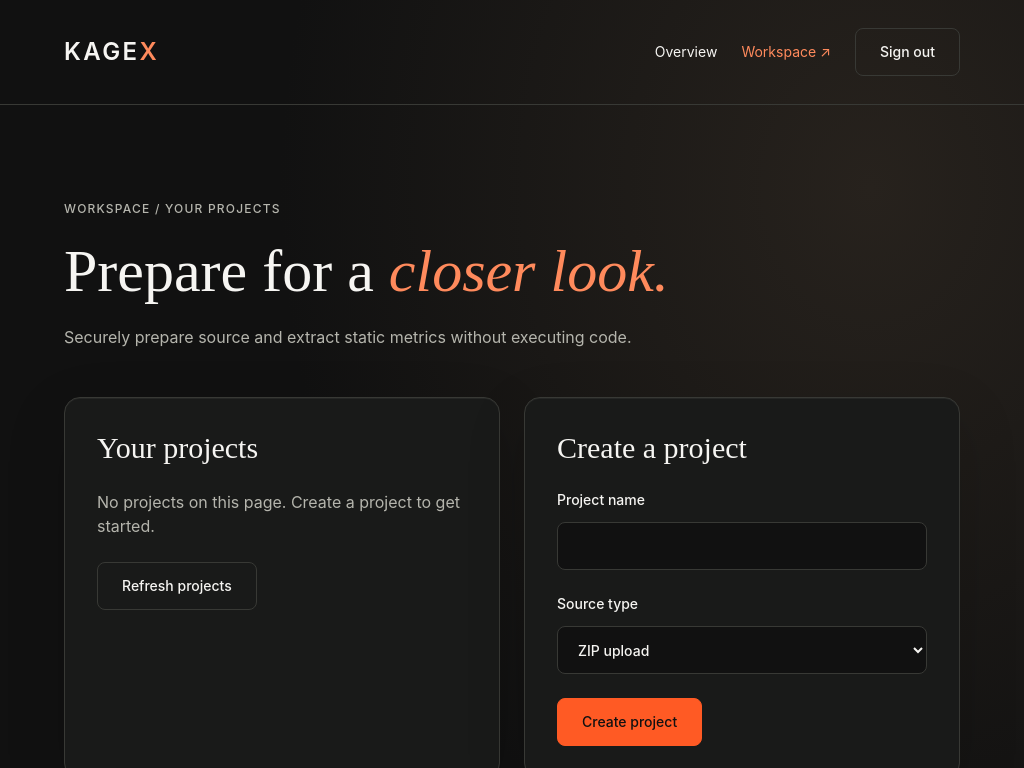
Test case: authentication and project flows › creates a project and displays its actual source state
Expected: the text "No projects on this page. Create a project to get started." is shown, [97,490,467,538]
Type "My project" into the field labelled "Project name" at (742, 546), box [557,522,927,570]
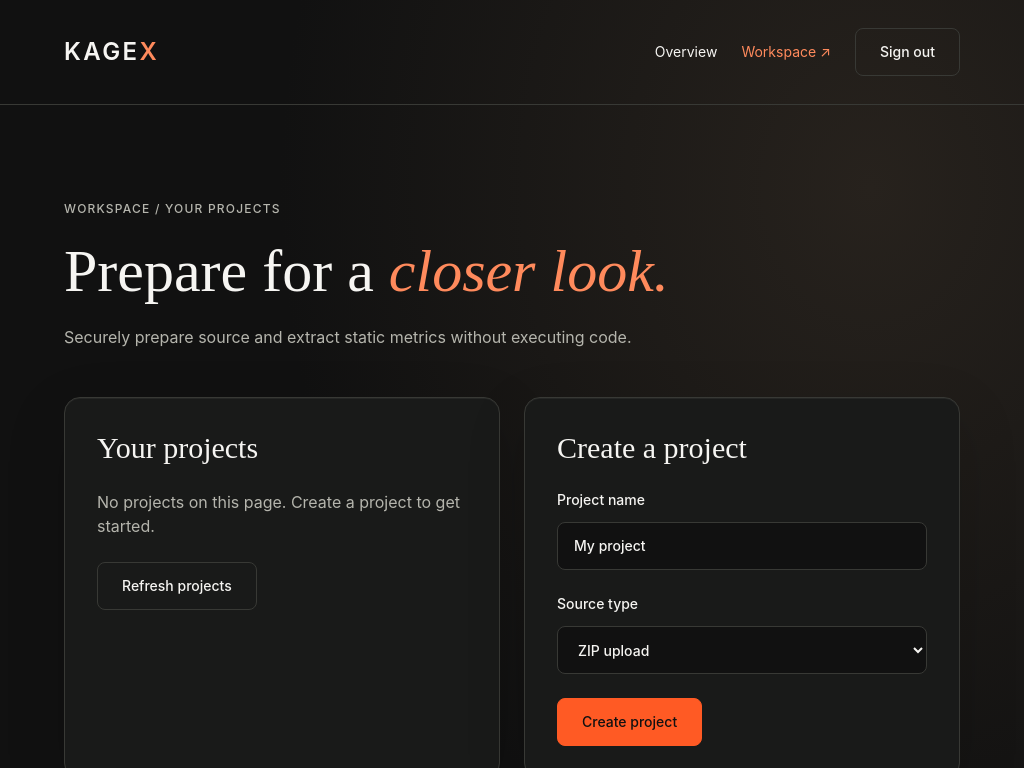
Click the button "Create project" at (630, 722), box [557,698,702,746]
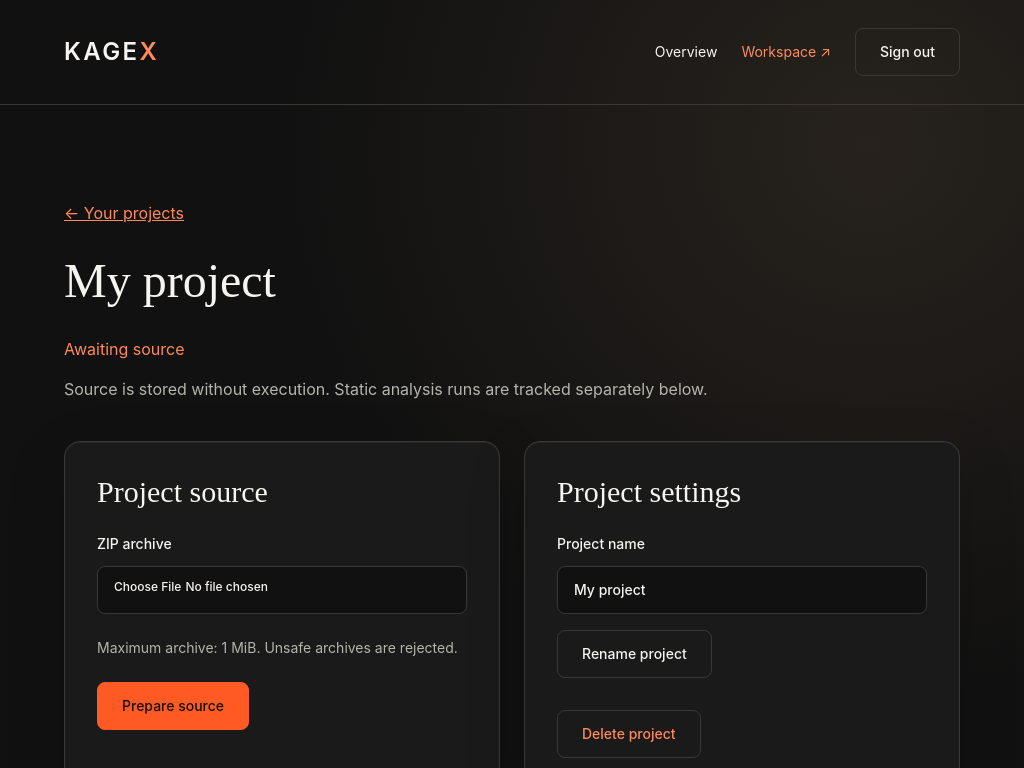
Expected: the heading "My project" is shown, [64,254,276,307]
Expected: the text "Awaiting source" is shown, [64,339,184,359]
Expected: the text "Static analysis runs are tracked separately" is shown, [64,379,708,399]
